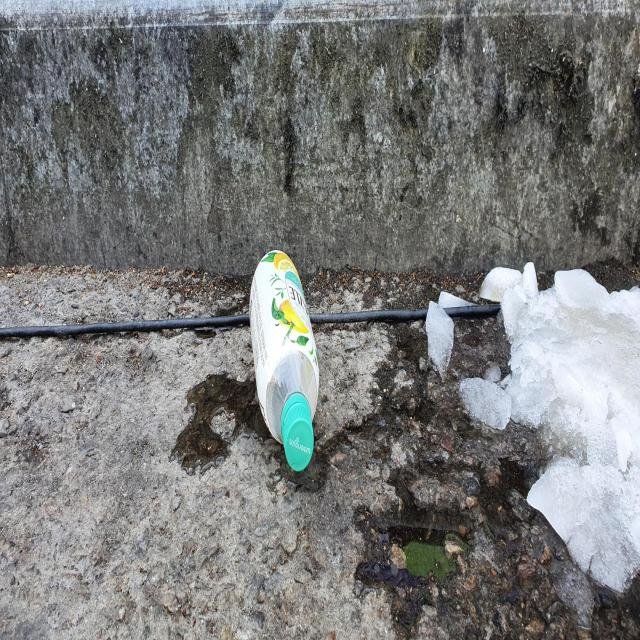plastic: (249, 249, 319, 471)
